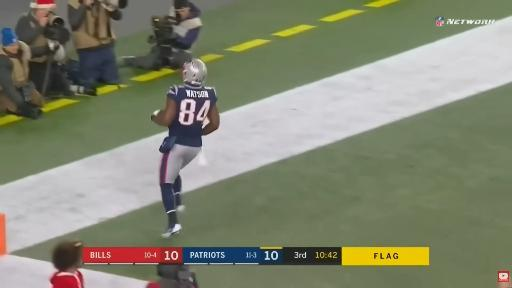Helmet: (182, 59, 207, 85)
Jersey: (167, 85, 217, 146)
Player: (151, 59, 219, 237)
